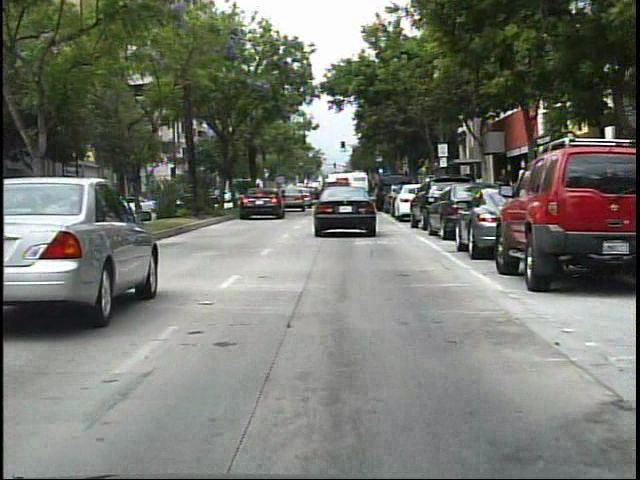person: (490, 159, 515, 221)
